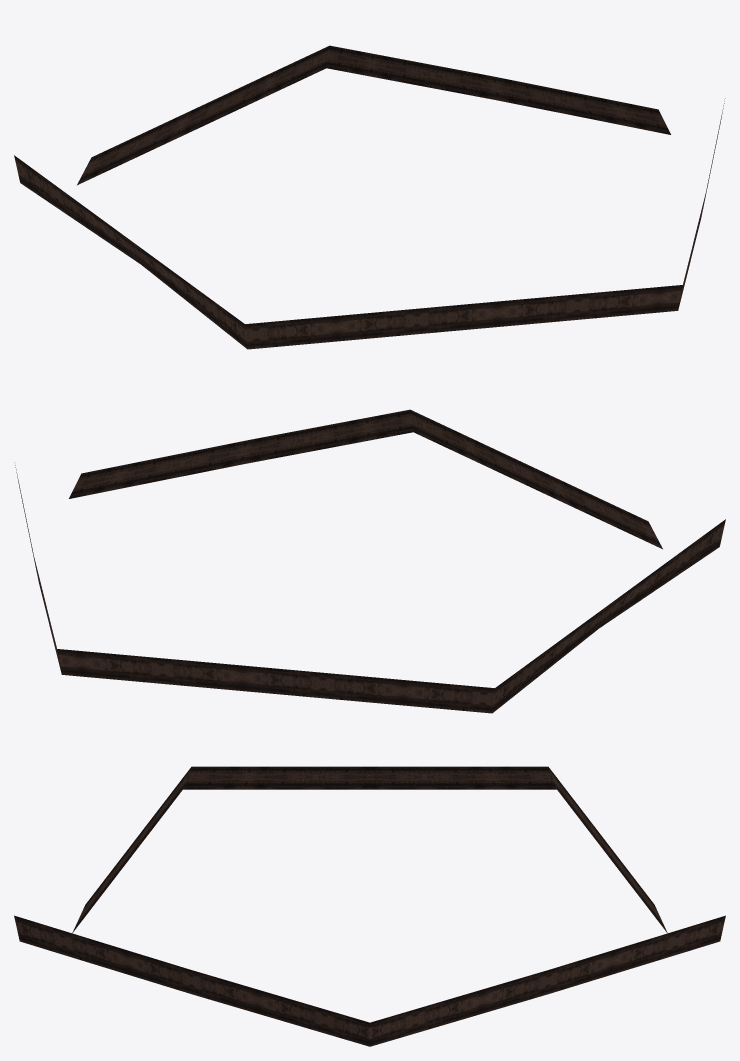
Rendered from test-ceiling_ring.glb.
3 renders of one model, top to bottom at view 1: azimuth 30°, elevation 25°; view 2: azimuth 150°, elevation 25°; view 3: azimuth 270°, elevation 25°, orthographic. The views are drawn at different scales.
Parts seen in each view (by area): view 1: ceiling_ring; view 2: ceiling_ring; view 3: ceiling_ring.
Boxes of the visible parts, <box> form: ceiling_ring: <box>14,45,725,349</box>; ceiling_ring: <box>14,409,725,713</box>; ceiling_ring: <box>14,766,725,1046</box>.
Size of the model in its own units: 113 by 5.21 by 121.
1 material, 1 textured.
